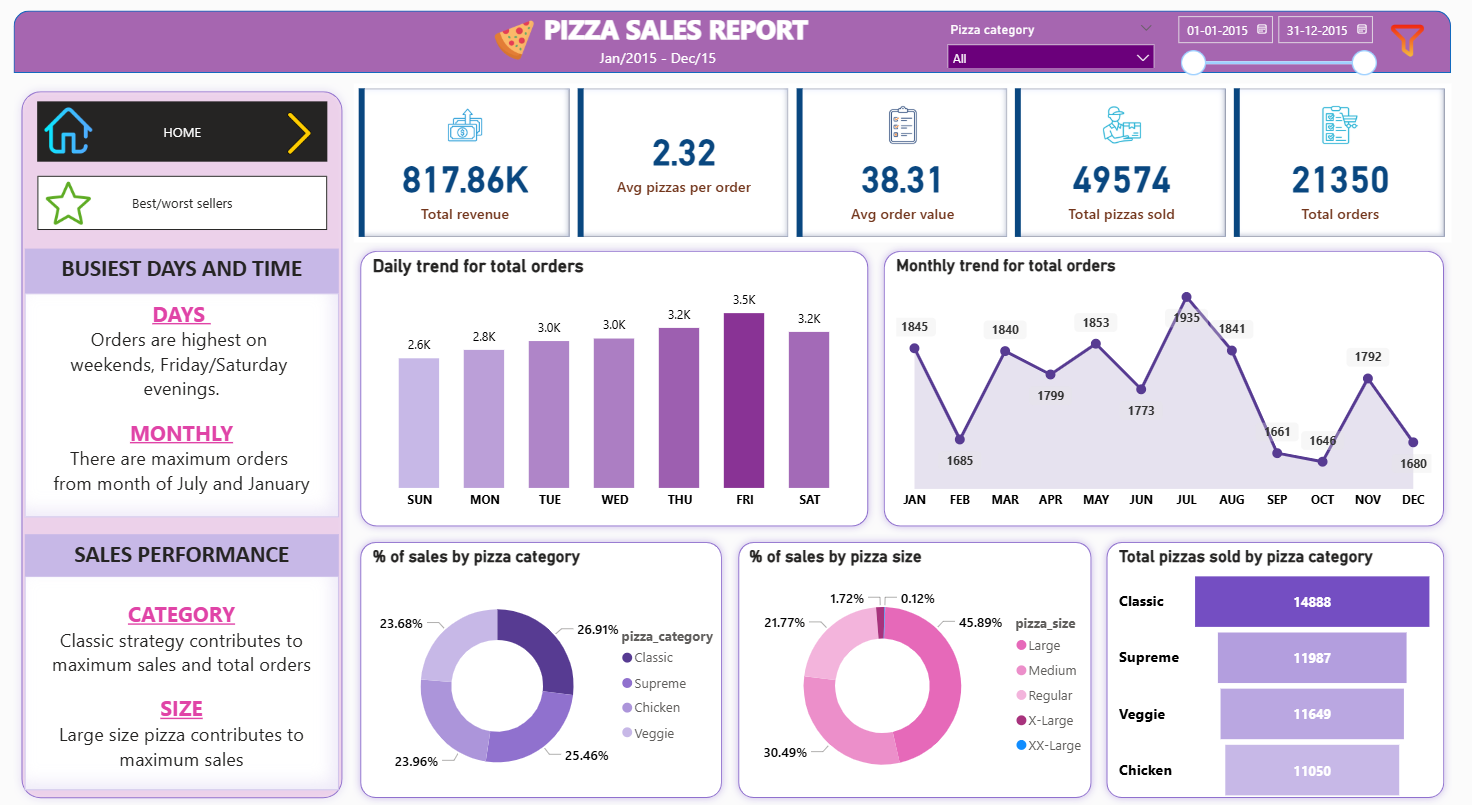

The dashboard page shown, as its layout file describes it:
{"tool":"powerbi","page":{"name":"HOME","canvas":[1500,820],"ordinal":0},"visuals":[{"type":"shape","box":[20,86.7,341.7,733.3],"z":0},{"type":"cardVisual","fields":{"Data":["pizza_sales.Total revenue","pizza_sales.Avg pizzas per order","pizza_sales.Avg order value","pizza_sales.Total pizzas sold","pizza_sales.Total orders"]},"box":[365,86.7,1113.3,161.7],"z":1000},{"type":"shape","box":[20,13.3,1458.3,63.3],"z":2000},{"type":"textbox","box":[425.7,8.6,531.4,48.6],"z":3000},{"type":"textbox","box":[610,45.7,162.9,41.4],"z":4000},{"type":"image","box":[491.4,17.1,72.9,51.4],"z":5000},{"type":"shape","box":[364.3,248.6,531.4,295.7],"z":6000},{"type":"textbox","box":[31.7,254.2,318.3,45.8],"z":7000},{"type":"columnChart","title":"Daily trend for total orders","fields":{"Category":["pizza_sales.Order day"],"Y":["pizza_sales.Total orders"]},"box":[378.6,261.4,501.4,265.7],"z":8000},{"type":"shape","box":[894.3,248.6,584.3,295.7],"z":9000},{"type":"areaChart","title":"Monthly trend for total orders","fields":{"Category":["pizza_sales.Order month"],"Y":["pizza_sales.Total orders"]},"box":[910,261.4,552.9,265.7],"z":10000},{"type":"shape","box":[364.3,544.3,382.9,275.7],"z":11000},{"type":"shape","box":[747.1,544.3,374.3,275.7],"z":12000},{"type":"shape","box":[1120,544.3,358.6,275.7],"z":13000},{"type":"donutChart","title":"% of sales by pizza category","fields":{"Category":["pizza_sales.pizza_category"],"Y":["pizza_sales.Total revenue"]},"box":[378.6,557.1,371.4,262.9],"z":14000},{"type":"donutChart","title":"% of sales by pizza size","fields":{"Y":["pizza_sales.Total revenue"],"Category":["pizza_sales.pizza_size"]},"box":[761.4,557.1,360,262.9],"z":15000},{"type":"funnel","title":"Total pizzas sold by pizza category","fields":{"Category":["pizza_sales.pizza_category"],"Y":["pizza_sales.Total pizzas sold"]},"box":[1135.7,557.1,330,262.9],"z":16000},{"type":"textbox","box":[31.4,300,318.6,227.1],"z":17000},{"type":"textbox","box":[31.4,544.3,318.6,42.9],"z":18000},{"type":"textbox","box":[31.4,587.1,318.6,217.1],"z":19000},{"type":"slicer","fields":{"Values":["pizza_sales.pizza_category"]},"box":[957.1,20,230,51.4],"z":20000},{"type":"slicer","fields":{"Values":["pizza_sales.order_date"]},"box":[1188.6,8.6,222.9,74.3],"z":21000},{"type":"image","box":[1404.3,14.3,58.6,57.1],"z":22000},{"type":"pageNavigator","box":[44.3,105.7,294.3,61.4],"z":23000},{"type":"pageNavigator","box":[44.3,180,294.3,55.7],"z":24000},{"type":"image","box":[281.4,111.4,57.1,52.9],"z":25000},{"type":"image","box":[44.3,180,62.9,55.7],"z":26000},{"type":"image","box":[44.3,105.7,62.9,58.6],"z":27000}]}

Visuals, with their boxes in screenshot pixels (x1, y1, x2, y2), scaled from the page's 1500x820 canvas onto the 1472x805 screenshot:
shape: l=20, t=85, r=355, b=804
cardVisual - pizza_sales.Total revenue x pizza_sales.Avg pizzas per order: l=358, t=85, r=1451, b=244
shape: l=20, t=13, r=1451, b=75
textbox: l=418, t=8, r=939, b=56
textbox: l=599, t=45, r=758, b=86
image: l=482, t=17, r=554, b=67
shape: l=357, t=244, r=879, b=534
textbox: l=31, t=250, r=343, b=295
"Daily trend for total orders" columnChart: l=372, t=257, r=864, b=517
shape: l=878, t=244, r=1451, b=534
"Monthly trend for total orders" areaChart: l=893, t=257, r=1436, b=517
shape: l=357, t=534, r=733, b=804
shape: l=733, t=534, r=1100, b=804
shape: l=1099, t=534, r=1451, b=804
"% of sales by pizza category" donutChart: l=372, t=547, r=736, b=804
"% of sales by pizza size" donutChart: l=747, t=547, r=1100, b=804
"Total pizzas sold by pizza category" funnel: l=1115, t=547, r=1438, b=804
textbox: l=31, t=295, r=343, b=517
textbox: l=31, t=534, r=343, b=576
textbox: l=31, t=576, r=343, b=789
slicer - pizza_sales.pizza_category: l=939, t=20, r=1165, b=70
slicer - pizza_sales.order_date: l=1166, t=8, r=1385, b=81
image: l=1378, t=14, r=1436, b=70
pageNavigator: l=43, t=104, r=332, b=164
pageNavigator: l=43, t=177, r=332, b=231
image: l=276, t=109, r=332, b=161
image: l=43, t=177, r=105, b=231
image: l=43, t=104, r=105, b=161
